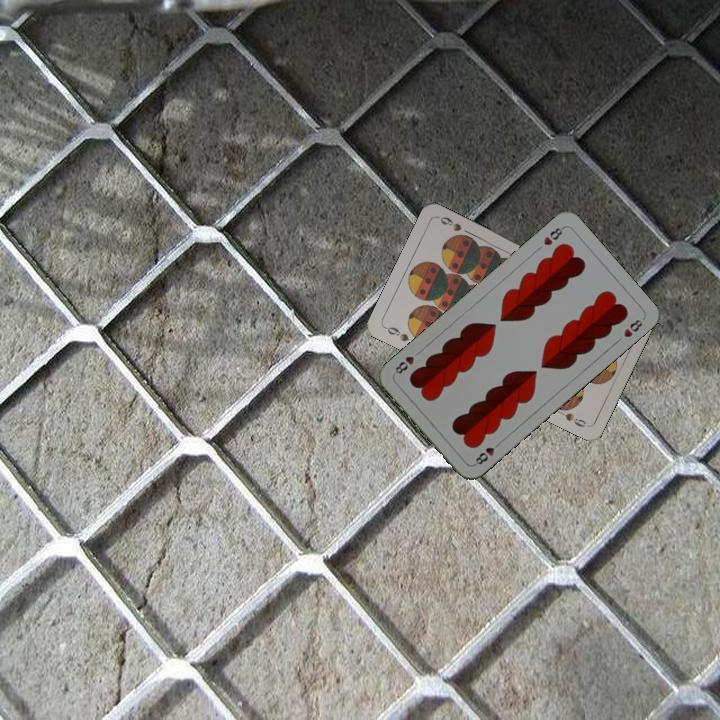H8: (470, 437, 504, 468), (539, 223, 567, 248)
S9: (381, 323, 412, 344)
